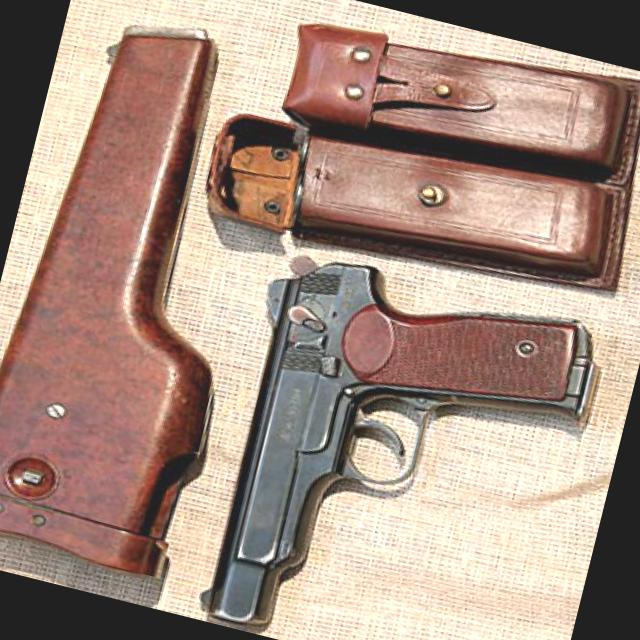handgun: (189, 241, 609, 639)
